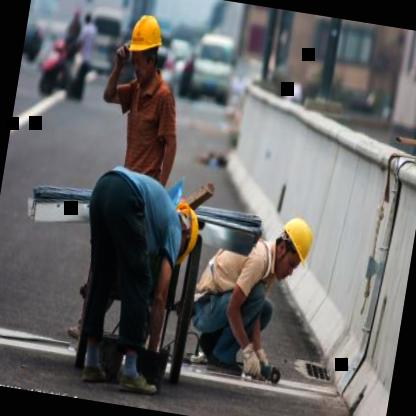helmet: (269, 216, 318, 286), (122, 9, 166, 85), (162, 200, 206, 266)
